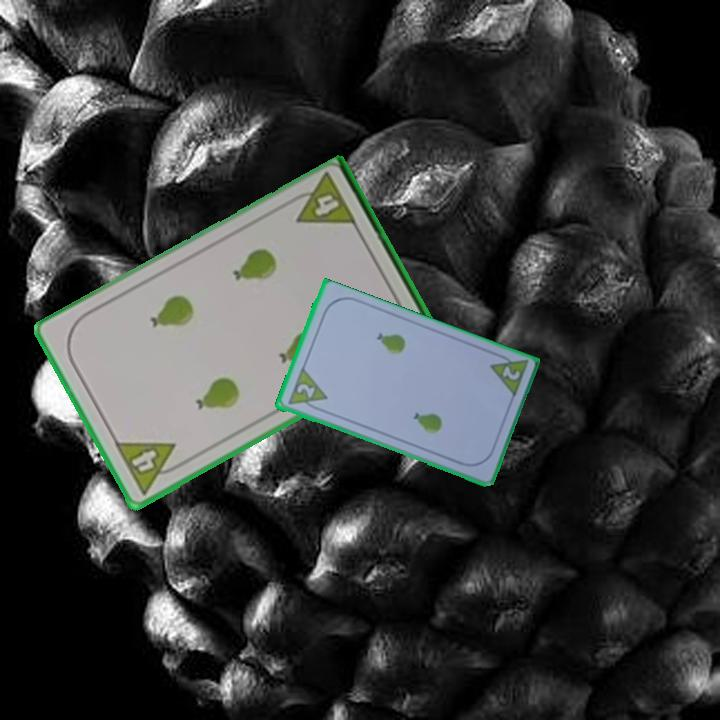2p: (284, 366, 329, 415), (498, 363, 523, 384)
4p: (111, 438, 188, 498), (284, 170, 360, 230)
